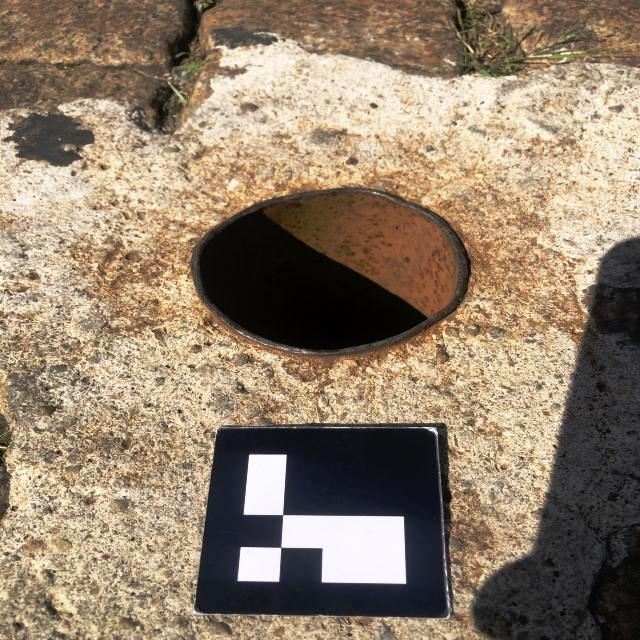Corrosion: (190, 188, 470, 358)
